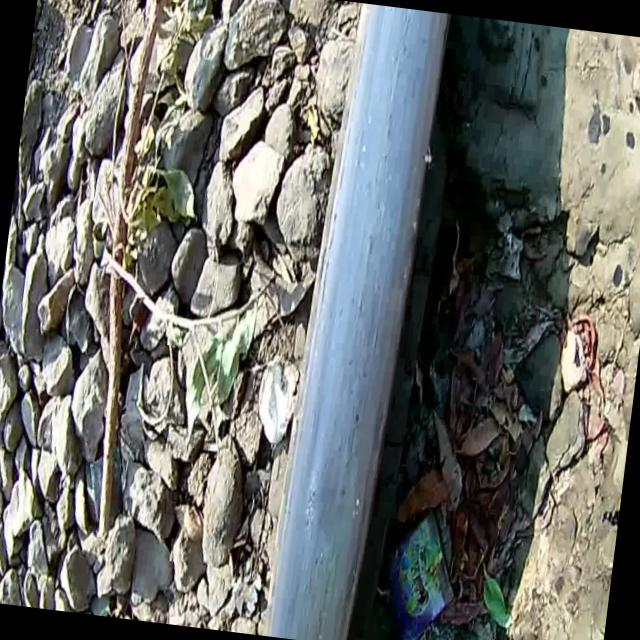Squats: (237, 0, 476, 640)
